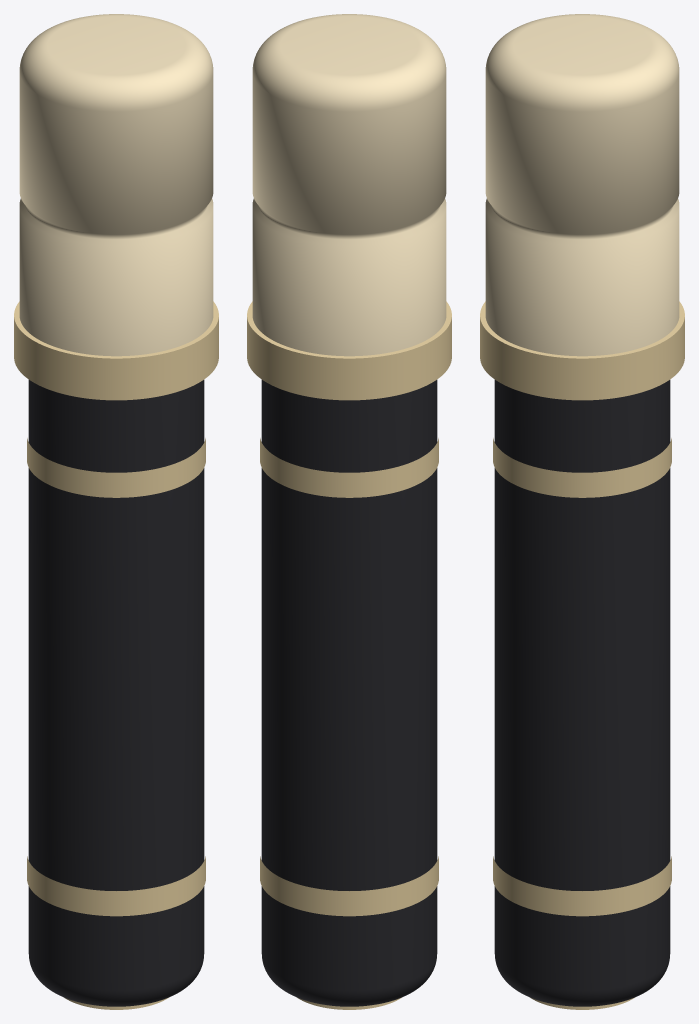
File: Lipliner.glb
3 views of the same model, side by side, from view 1: azimuth 30°, elevation 25°; view 2: azimuth 150°, elevation 25°; view 3: azimuth 270°, elevation 25° (orthographic).
Parts seen in each view (by area): view 1: LipGloss; view 2: LipGloss; view 3: LipGloss.
Part boxes in pixels (left/top/right/bottom): LipGloss: left=14, top=14, right=218, bottom=1009; LipGloss: left=247, top=14, right=451, bottom=1009; LipGloss: left=480, top=14, right=684, bottom=1009.
Size of the model in its own units: 0.0222 by 0.1121 by 0.0222.
